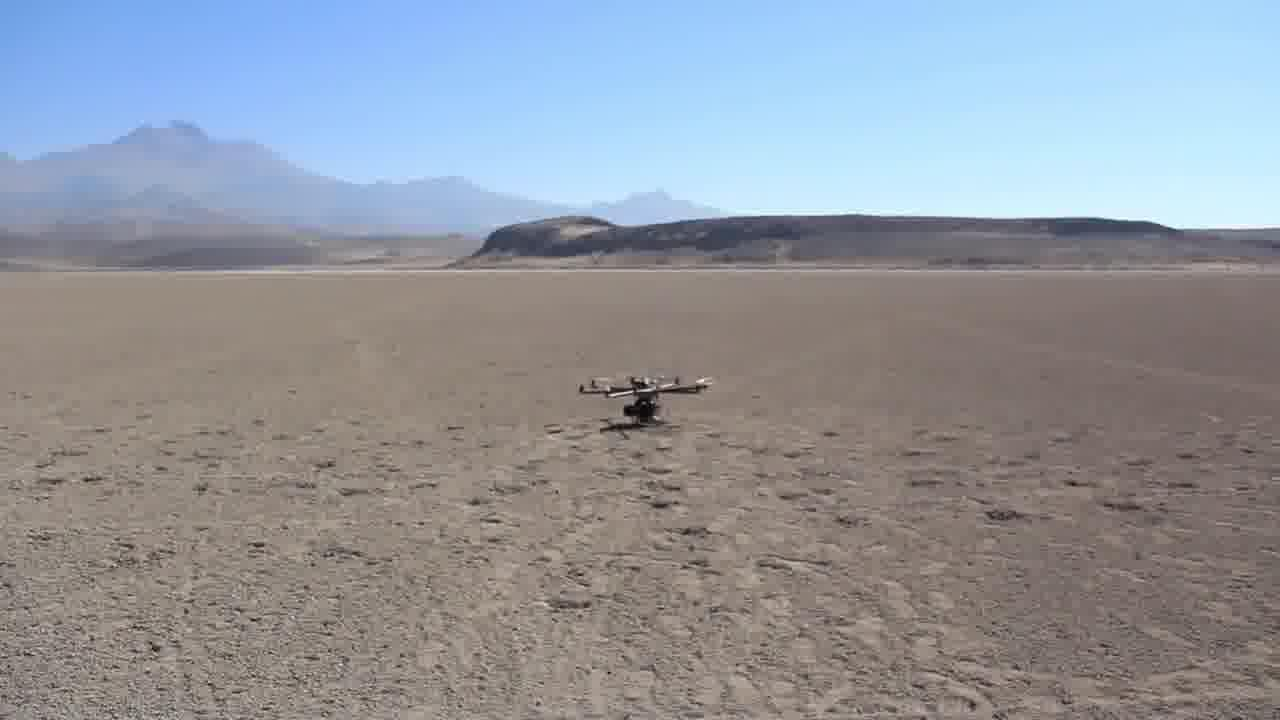drone: (575, 371, 721, 431)
